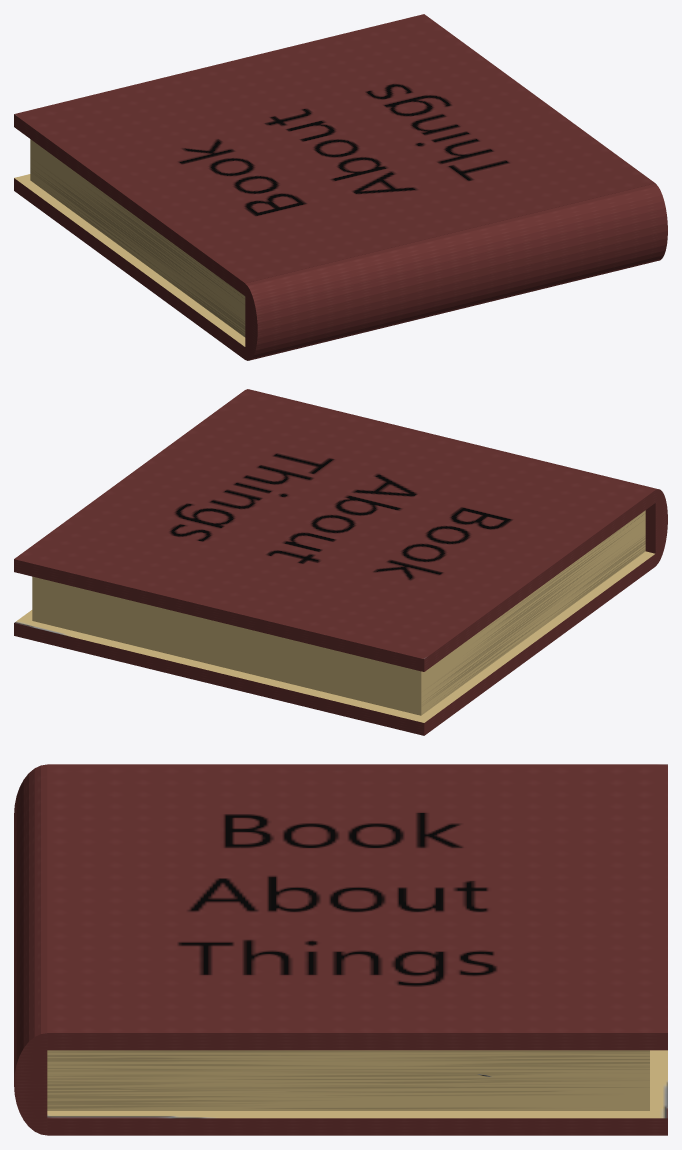
File: book.obj
The picture shows the model from 3 angles, top to bottom: view 1: azimuth 30°, elevation 25°; view 2: azimuth 150°, elevation 25°; view 3: azimuth 270°, elevation 25°; orthographic projection. The views are drawn at different scales.
Visible parts, largest first — view 1: Cube_Mesh; view 2: Cube_Mesh; view 3: Cube_Mesh.
Boxes of the visible parts, x1,y1,x2,y2 form: Cube_Mesh: (14, 14, 667, 360); Cube_Mesh: (14, 389, 667, 735); Cube_Mesh: (14, 764, 667, 1135).
Size of the model in its own units: 8.44 by 1.51 by 8.68.
